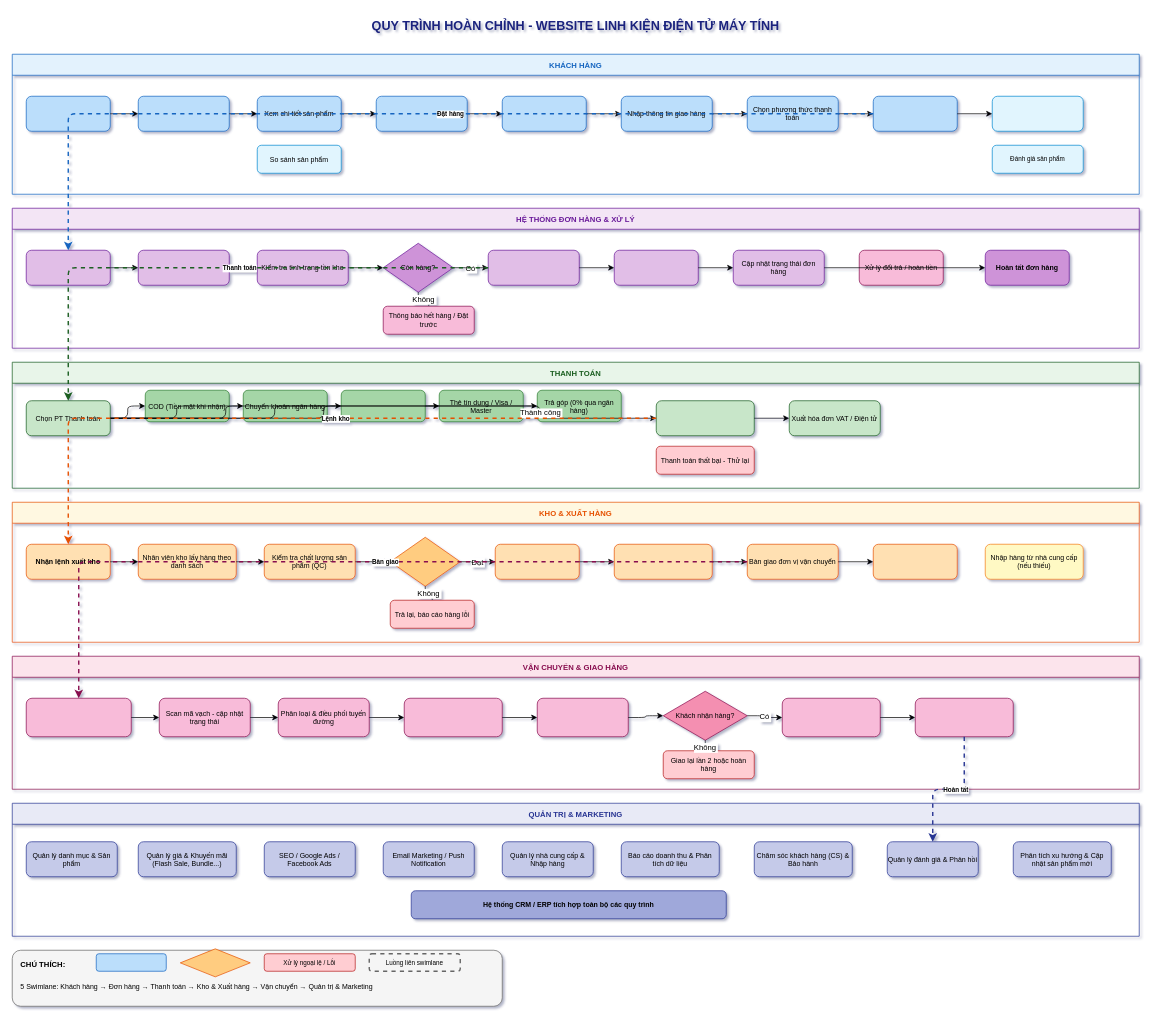
The diagram is 1156 pixels wide and 1023 high, and some of its shapes have lost their labels. Here are the shapes that lost their labels. From the top down, the centre of each, then its label:
At (68,113): "Truy cập Website".
At (183,113): "Tìm kiếm / Duyệt danh mục".
At (421,113): "Thêm vào giỏ hàng / Wishlist".
At (544,113): "Đăng nhập / Đăng ký".
At (915,113): "Xác nhận đặt hàng".
At (1037,113): "Nhận email xác nhận & theo dõi đơn".
At (68,267): "Tiếp nhận đơn hàng".
At (183,267): "Xác thực thông tin đơn hàng".
At (533,267): "Xác nhận đơn hàng & Gửi email".
At (656,267): "Giao cho bộ phận kho".
At (383,406): "VNPay / MoMo / ZaloPay".
At (705,418): "Xác nhận thanh toán thành công".
At (425,561): "Đạt chuẩn?".
At (537,561): "Đóng gói & Dán nhãn".
At (663,561): "Tạo phiếu xuất kho & Bill of Lading".
At (915,561): "Cập nhật tồn kho thực tế".
At (78,717): "Đơn vị vận chuyển nhận hàng (GHTK, GHN, Viettel Post...)".
At (453,717): "Vận chuyển đến kho trung chuyển / địa phương".
At (582,717): "Shipper giao đến khách hàng".
At (831,717): "Giao hàng thành công - Ký nhận".
At (964,717): "Cập nhật trạng thái Hoàn thành".
At (131,962): "Luồng chính".
At (215,962): "Điểm quyết định".
